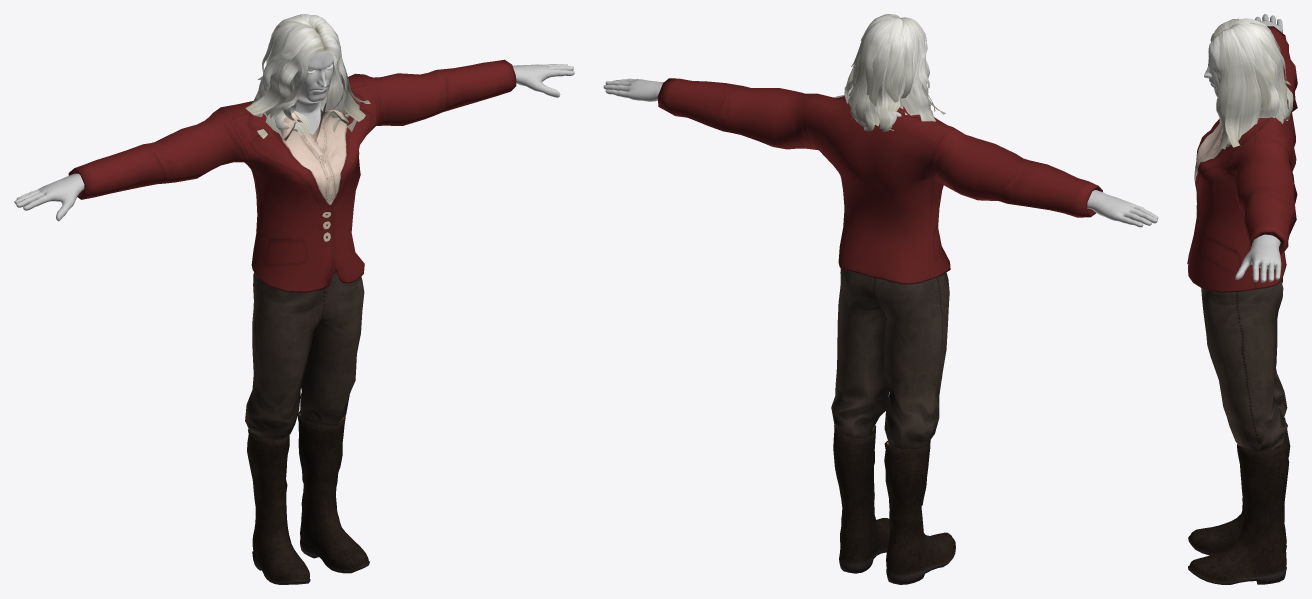
File: Isaac_Newton.obj
The picture shows the model from 3 angles, left to right: view 1: azimuth 30°, elevation 25°; view 2: azimuth 150°, elevation 25°; view 3: azimuth 270°, elevation 25°; orthographic projection.
Parts seen in each view (by area): view 1: Tops, Bottoms, Shoes, Hair, Body; view 2: Tops, Bottoms, Shoes, Hair, Body; view 3: Tops, Bottoms, Shoes, Hair, Body.
Part boxes in pixels (x1,y1,x2,y2): Tops: [68, 59, 516, 292]; Bottoms: [245, 272, 364, 439]; Shoes: [247, 410, 369, 584]; Hair: [245, 14, 370, 138]; Body: [14, 51, 574, 221]; Tops: [657, 78, 1102, 284]; Bottoms: [831, 268, 949, 448]; Shoes: [833, 425, 955, 584]; Hair: [835, 14, 945, 131]; Body: [603, 78, 1158, 227]; Tops: [1187, 26, 1297, 292]; Bottoms: [1201, 277, 1287, 450]; Shoes: [1188, 417, 1290, 584]; Hair: [1208, 18, 1293, 149]; Body: [1204, 14, 1282, 282].
Bounding box in the file's own units: 192 × 181 × 33.39.
